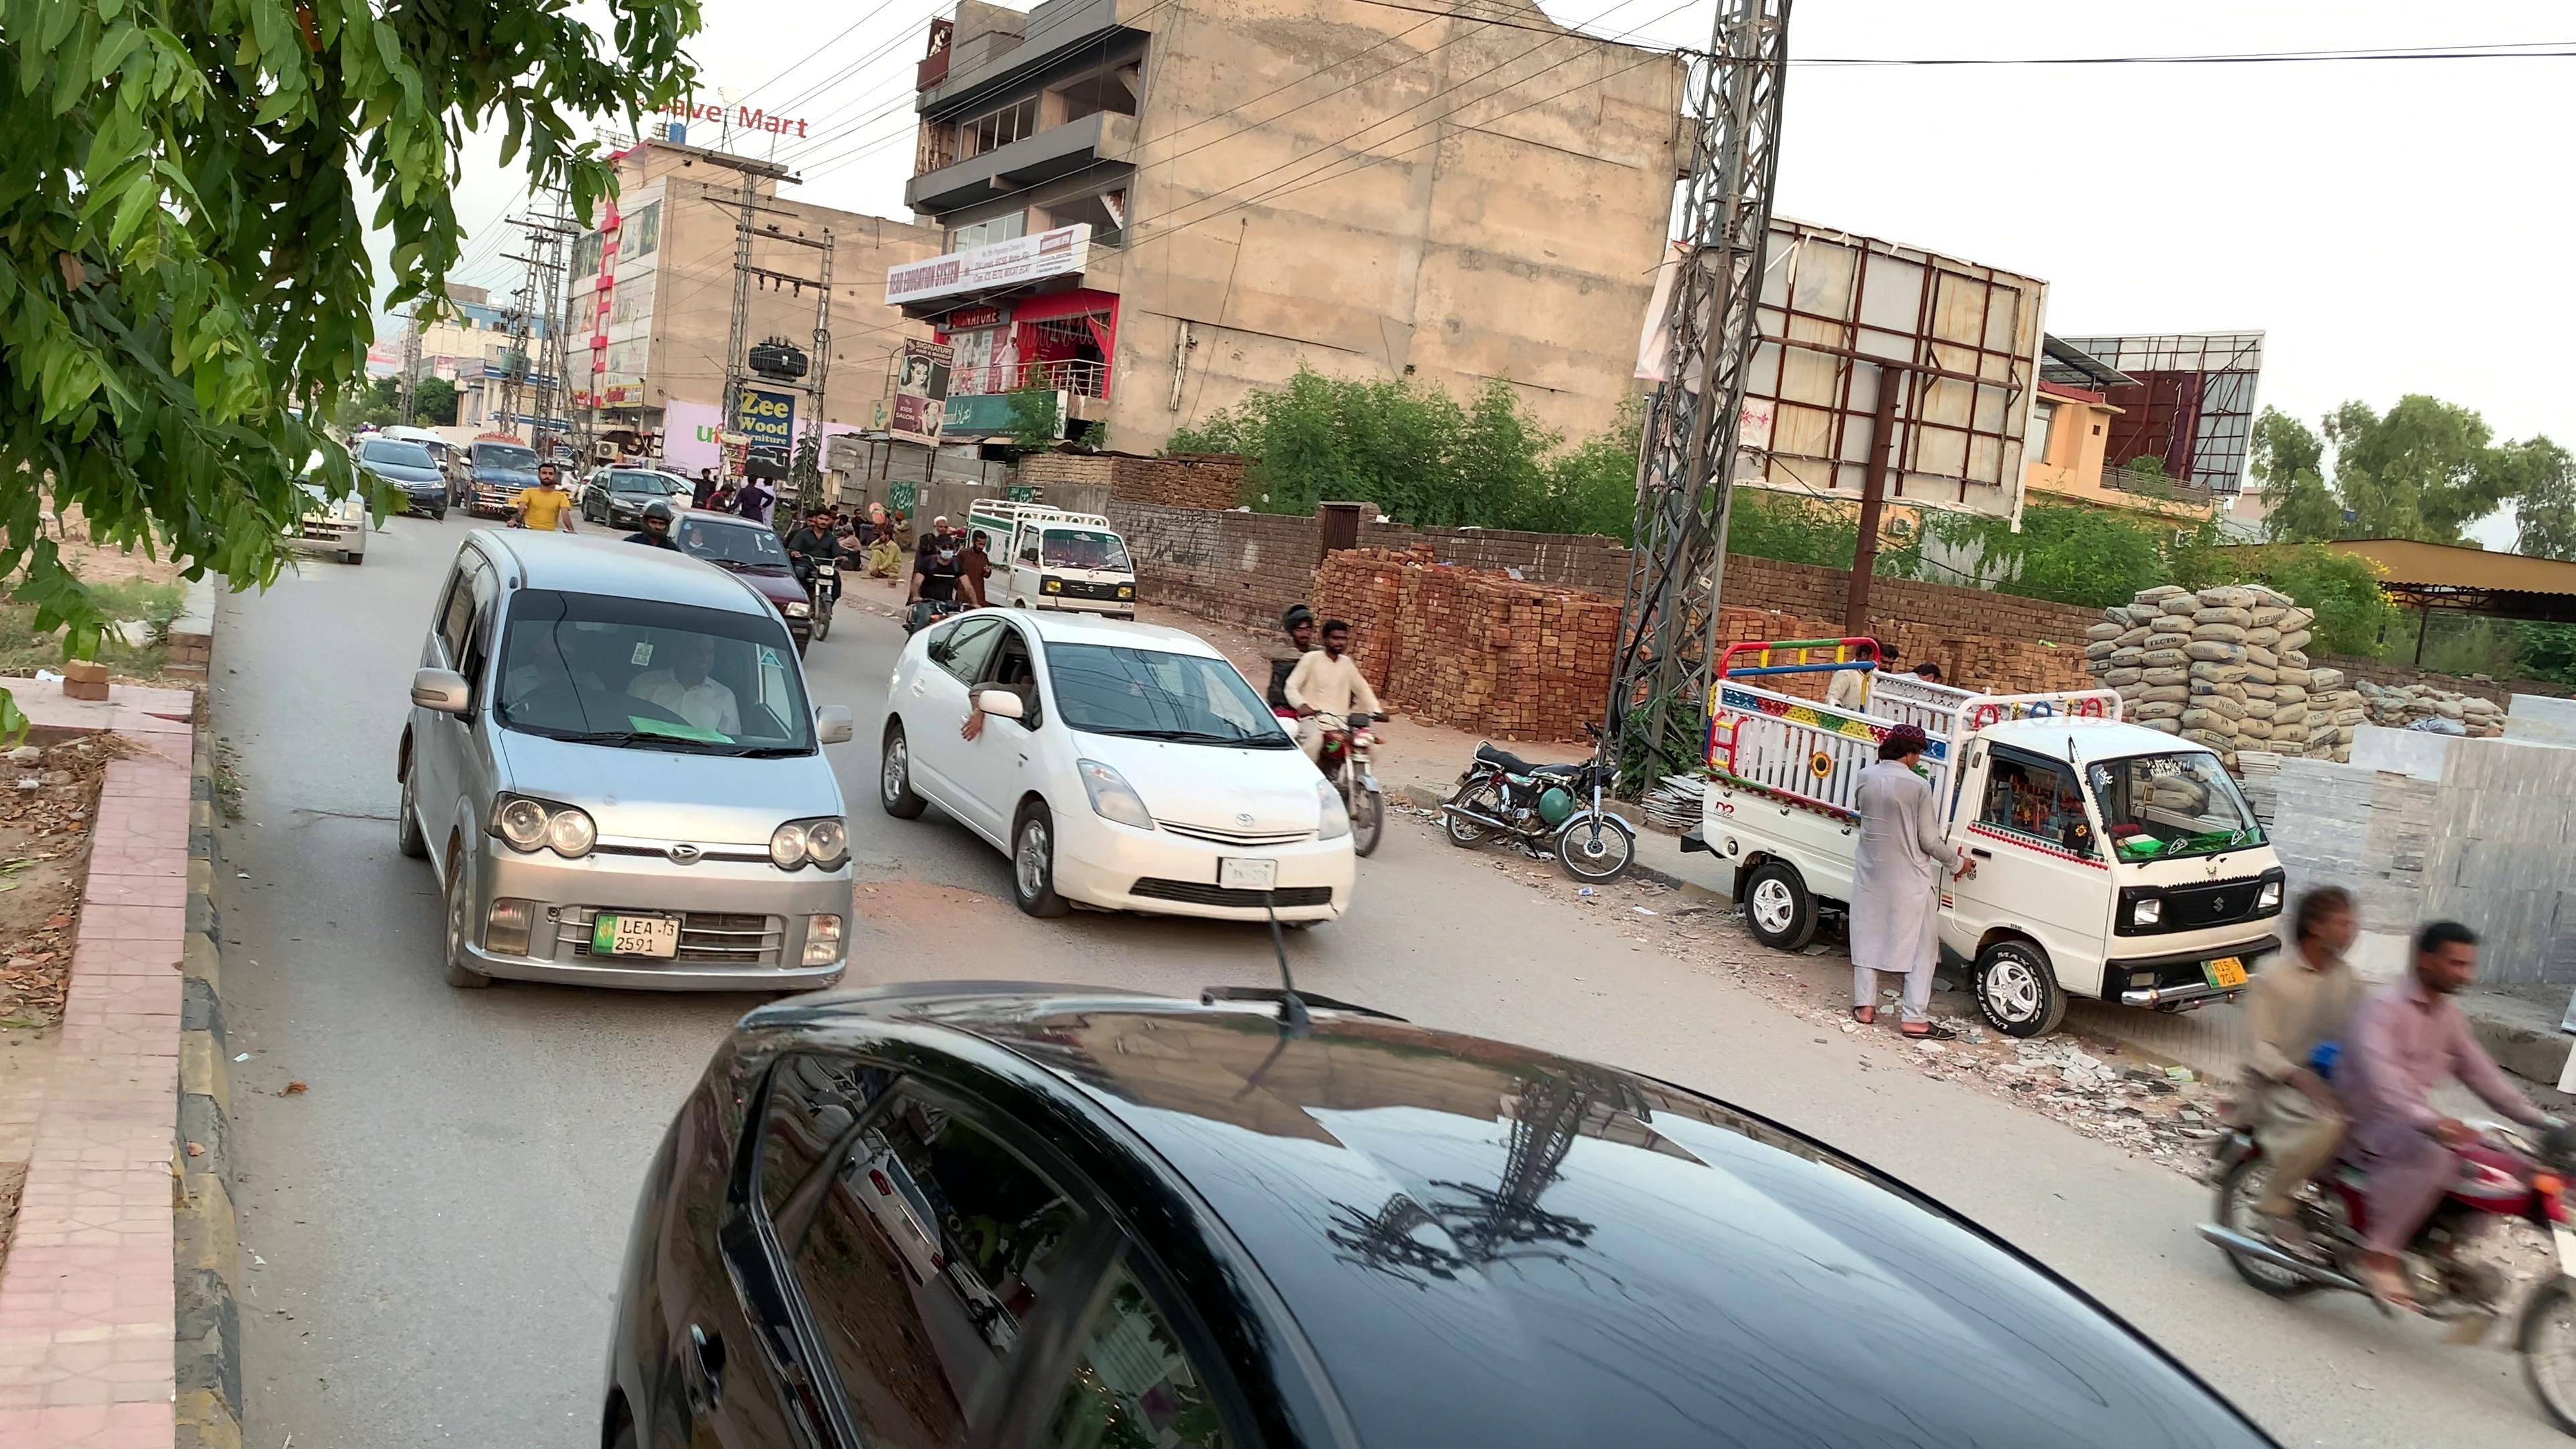windshield: (481, 563, 812, 757), (1030, 628, 1316, 755)
